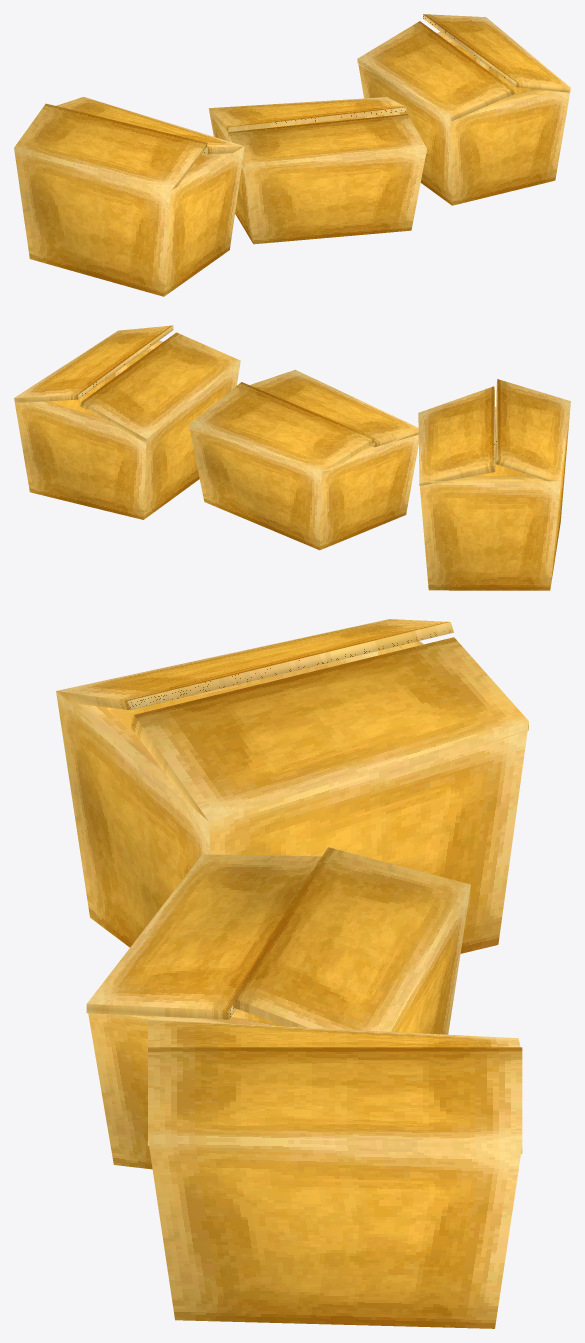
File: a-groc-4.glb
3 views of the same model, one above another, from view 1: azimuth 30°, elevation 25°; view 2: azimuth 150°, elevation 25°; view 3: azimuth 270°, elevation 25° (orthographic). The views are drawn at different scales.
Parts seen in each view (by area): view 1: a_groc_4; view 2: a_groc_4; view 3: a_groc_4.
Boxes of the visible parts, <box> form: a_groc_4: <box>14,14,570,296</box>; a_groc_4: <box>14,325,570,590</box>; a_groc_4: <box>56,619,528,1328</box>.
Bounding box in the file's own units: 343 × 87 × 139.
1 material, 1 textured.
